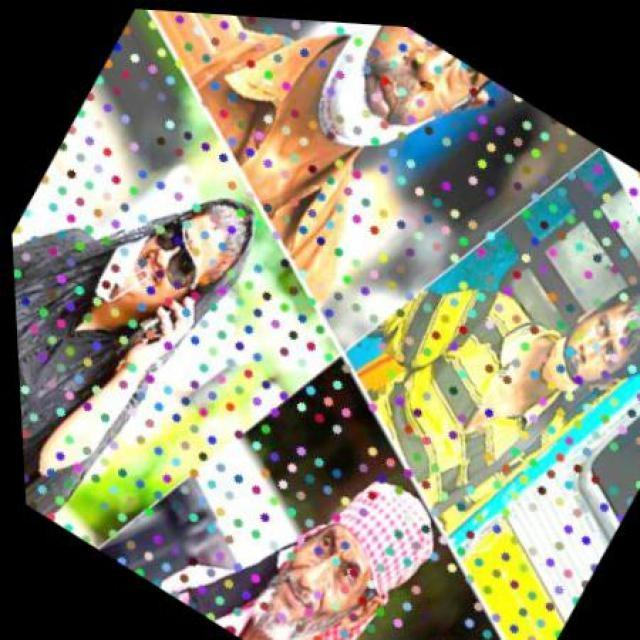hairnet: (294, 15, 492, 196), (213, 494, 377, 638), (84, 196, 218, 342), (526, 286, 639, 411)
